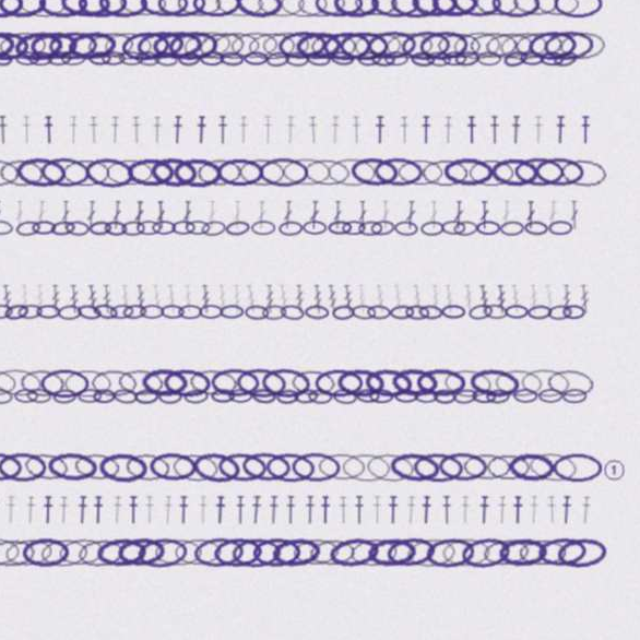chain: (351, 542, 399, 574), (226, 464, 273, 496), (472, 542, 519, 574), (217, 78, 265, 109), (230, 78, 277, 109), (44, 387, 91, 418), (534, 464, 581, 495), (404, 542, 451, 573), (175, 78, 221, 109), (161, 79, 208, 109), (507, 79, 554, 109), (456, 388, 503, 418), (480, 388, 527, 418), (385, 465, 432, 495), (407, 465, 454, 495), (54, 543, 101, 573), (176, 543, 223, 573), (422, 543, 469, 573), (560, 543, 607, 573), (71, 464, 116, 495), (63, 79, 109, 109), (112, 79, 158, 109), (128, 195, 174, 225), (562, 195, 608, 225), (384, 388, 430, 418), (207, 465, 253, 495), (120, 543, 166, 573), (299, 543, 345, 573), (440, 543, 486, 573), (491, 543, 537, 573), (204, 79, 251, 108), (434, 79, 481, 108), (548, 79, 595, 108), (65, 195, 112, 224), (370, 543, 417, 572), (465, 40, 511, 69), (19, 79, 65, 108), (129, 79, 175, 108), (190, 79, 236, 108), (261, 79, 307, 108), (305, 79, 351, 108), (387, 79, 433, 108), (418, 79, 464, 108), (465, 79, 511, 108), (521, 79, 567, 108), (88, 195, 134, 224), (371, 195, 417, 224), (157, 388, 203, 417), (223, 388, 269, 417), (267, 388, 313, 417), (527, 388, 573, 417), (550, 388, 596, 417), (26, 465, 72, 494), (94, 465, 140, 494), (117, 465, 163, 494), (103, 543, 149, 572), (228, 543, 274, 572), (246, 543, 292, 572), (159, 40, 204, 69), (266, 40, 311, 69), (519, 40, 564, 69), (538, 40, 583, 69), (49, 79, 94, 108), (534, 79, 579, 108), (562, 79, 607, 108), (188, 195, 233, 224), (290, 388, 335, 417), (164, 465, 209, 494), (272, 465, 317, 494), (158, 543, 203, 572), (543, 543, 588, 572), (106, 41, 152, 69), (247, 41, 293, 69), (322, 41, 368, 69), (408, 41, 454, 69), (95, 80, 141, 108), (374, 80, 420, 108), (494, 80, 540, 108), (250, 466, 296, 494), (294, 466, 340, 494), (363, 466, 409, 494), (429, 466, 475, 494), (139, 544, 185, 572), (263, 544, 309, 572), (68, 388, 112, 417), (409, 388, 453, 417), (67, 41, 112, 69), (78, 80, 123, 108), (277, 80, 322, 108), (346, 80, 391, 108), (403, 80, 448, 108), (209, 196, 254, 224), (328, 196, 373, 224), (500, 196, 545, 224), (200, 389, 245, 417), (359, 389, 404, 417), (503, 389, 548, 417), (141, 466, 186, 494), (39, 544, 84, 572), (87, 544, 132, 572), (333, 544, 378, 572), (387, 544, 432, 572), (507, 544, 552, 572), (390, 41, 436, 68), (393, 196, 439, 223), (341, 466, 387, 493), (452, 466, 498, 493), (455, 544, 501, 571), (427, 41, 471, 69), (484, 41, 528, 69), (321, 80, 365, 108), (49, 196, 93, 224), (316, 389, 360, 417), (516, 466, 560, 494), (86, 41, 131, 68), (122, 41, 167, 68), (141, 41, 186, 68), (286, 41, 331, 68), (244, 80, 289, 107), (290, 80, 335, 107), (480, 80, 525, 107), (288, 196, 333, 223), (309, 196, 354, 223), (350, 196, 395, 223), (457, 196, 502, 223), (522, 196, 567, 223), (541, 196, 586, 223), (244, 389, 289, 416), (432, 389, 477, 416), (49, 466, 94, 493), (187, 466, 232, 493), (318, 466, 363, 493), (474, 466, 519, 493), (318, 544, 363, 571), (49, 41, 93, 68), (179, 41, 223, 68), (501, 41, 545, 68), (230, 196, 274, 223), (269, 196, 313, 223), (133, 389, 177, 416), (180, 389, 224, 416), (25, 544, 69, 571), (71, 544, 115, 571), (210, 544, 254, 571), (282, 544, 326, 571), (227, 42, 272, 68), (558, 42, 603, 68), (146, 81, 191, 107), (107, 197, 152, 223), (88, 390, 133, 416), (109, 390, 154, 416), (557, 467, 602, 493), (192, 545, 237, 571), (525, 545, 570, 571), (212, 41, 255, 68), (356, 41, 399, 68), (195, 42, 239, 68), (307, 42, 351, 68), (339, 42, 383, 68), (34, 81, 78, 107), (334, 81, 378, 107), (362, 81, 406, 107), (147, 197, 191, 223), (167, 197, 211, 223), (249, 197, 293, 223), (414, 197, 458, 223), (436, 197, 480, 223), (479, 197, 523, 223), (22, 390, 66, 416), (339, 390, 383, 416), (30, 42, 73, 68), (374, 42, 417, 68), (446, 42, 489, 68), (450, 81, 493, 107), (27, 197, 70, 223), (495, 467, 538, 493), (511, 96, 535, 115), (557, 97, 581, 115), (54, 329, 78, 346), (136, 329, 160, 346), (479, 329, 503, 346), (191, 98, 214, 114), (294, 98, 317, 114), (65, 253, 88, 269), (97, 253, 120, 269), (235, 253, 258, 269), (257, 253, 280, 269), (121, 330, 144, 346), (307, 330, 330, 346), (154, 407, 177, 423), (355, 407, 378, 423), (466, 407, 489, 423), (41, 98, 63, 114), (94, 98, 117, 113), (175, 98, 198, 113), (331, 98, 354, 113), (353, 98, 376, 113), (378, 98, 401, 113), (467, 98, 490, 113), (40, 253, 63, 268), (390, 253, 413, 268), (40, 330, 63, 345), (67, 330, 90, 345), (151, 330, 174, 345), (163, 330, 186, 345), (493, 330, 516, 345), (75, 407, 98, 422), (281, 407, 304, 422), (320, 407, 343, 422), (390, 99, 413, 113), (441, 99, 464, 113), (466, 254, 489, 268), (434, 331, 457, 345), (552, 331, 575, 345), (40, 408, 63, 422), (99, 408, 122, 422), (219, 408, 242, 422), (252, 99, 274, 113), (312, 99, 334, 113), (427, 99, 449, 113), (111, 254, 133, 268), (132, 254, 154, 268), (146, 254, 168, 268), (162, 254, 184, 268), (306, 254, 328, 268), (379, 254, 401, 268), (412, 254, 434, 268), (436, 254, 458, 268), (509, 254, 531, 268), (531, 254, 553, 268), (104, 331, 126, 345), (275, 331, 297, 345), (291, 331, 313, 345), (330, 331, 352, 345), (373, 331, 395, 345), (387, 331, 409, 345), (408, 331, 430, 345), (422, 331, 444, 345), (534, 331, 556, 345), (174, 408, 196, 422), (196, 408, 218, 422), (333, 408, 355, 422), (447, 408, 469, 422), (496, 408, 518, 422), (214, 99, 235, 113), (355, 331, 376, 345), (304, 408, 325, 422), (65, 99, 87, 112), (77, 99, 99, 112), (107, 99, 129, 112), (144, 99, 166, 112), (160, 99, 182, 112), (234, 99, 256, 112), (274, 99, 296, 112), (403, 99, 425, 112), (456, 99, 478, 112), (488, 99, 510, 112), (527, 99, 549, 112), (545, 99, 567, 112), (80, 254, 102, 267), (176, 254, 198, 267), (190, 254, 212, 267), (208, 254, 230, 267), (221, 254, 243, 267), (281, 254, 303, 267), (328, 254, 350, 267), (351, 254, 373, 267), (364, 254, 386, 267), (455, 254, 477, 267), (487, 254, 509, 267), (553, 254, 575, 267), (84, 331, 106, 344), (179, 331, 201, 344), (198, 331, 220, 344), (214, 331, 236, 344), (233, 331, 255, 344), (252, 331, 274, 344), (455, 331, 477, 344), (513, 331, 535, 344), (64, 408, 86, 421), (122, 408, 144, 421), (244, 408, 266, 421), (260, 408, 282, 421), (377, 408, 399, 421), (389, 408, 411, 421), (412, 408, 434, 421), (430, 408, 452, 421), (483, 408, 505, 421), (521, 408, 543, 421), (544, 408, 566, 421), (566, 408, 588, 421), (132, 99, 153, 112), (566, 331, 587, 344), (136, 408, 157, 421)
double: (83, 236, 94, 262), (153, 236, 163, 262), (240, 236, 250, 262), (334, 236, 344, 262), (422, 236, 432, 262), (466, 236, 476, 262), (552, 236, 562, 262), (44, 236, 53, 262), (64, 236, 73, 262), (130, 236, 139, 262), (174, 236, 183, 262), (194, 236, 203, 262), (218, 236, 227, 262), (286, 236, 295, 262), (310, 236, 319, 262), (490, 236, 499, 262), (510, 236, 519, 262), (107, 236, 115, 262), (264, 236, 272, 262), (356, 236, 364, 262), (379, 236, 387, 262), (400, 236, 408, 262), (444, 236, 452, 262), (533, 236, 541, 262), (573, 236, 581, 262)
half_double: (48, 158, 59, 184), (208, 158, 219, 184), (230, 158, 241, 184), (332, 158, 343, 184), (518, 158, 529, 184), (39, 506, 50, 532), (121, 506, 132, 532), (153, 506, 164, 532), (199, 506, 210, 532), (247, 506, 258, 532), (280, 506, 291, 532), (296, 506, 307, 532), (422, 506, 433, 532), (436, 506, 447, 532), (489, 506, 500, 532), (505, 506, 516, 532), (534, 506, 545, 532), (564, 506, 575, 532), (582, 506, 593, 532), (70, 158, 80, 184), (113, 158, 123, 184), (132, 158, 142, 184), (151, 158, 161, 184), (171, 158, 181, 184), (190, 158, 200, 184), (250, 158, 260, 184), (269, 158, 279, 184), (291, 158, 301, 184), (312, 158, 322, 184), (353, 158, 363, 184), (372, 158, 382, 184), (394, 158, 404, 184), (416, 158, 426, 184), (436, 158, 446, 184), (456, 158, 466, 184), (478, 158, 488, 184), (499, 158, 509, 184), (539, 158, 549, 184), (559, 158, 569, 184), (582, 158, 592, 184), (56, 506, 66, 532), (74, 506, 84, 532), (90, 506, 100, 532), (104, 506, 114, 532), (136, 506, 146, 532), (168, 506, 178, 532), (183, 506, 193, 532), (214, 506, 224, 532), (232, 506, 242, 532), (266, 506, 276, 532), (312, 506, 322, 532), (330, 506, 340, 532), (344, 506, 354, 532), (360, 506, 370, 532), (375, 506, 385, 532), (391, 506, 401, 532), (406, 506, 416, 532), (455, 506, 465, 532), (472, 506, 482, 532), (520, 506, 530, 532), (551, 506, 561, 532), (91, 158, 100, 184)
noise: (602, 471, 624, 493), (8, 552, 33, 563), (0, 474, 11, 486)
treble: (305, 312, 317, 339), (130, 313, 142, 339), (189, 313, 201, 339), (275, 313, 287, 339), (364, 313, 376, 339), (52, 313, 63, 339), (350, 313, 361, 339), (394, 313, 405, 339), (410, 313, 421, 339), (457, 313, 468, 339), (489, 313, 500, 339), (549, 313, 560, 339), (581, 313, 592, 339), (83, 313, 93, 339), (114, 313, 124, 339), (144, 313, 154, 339), (161, 313, 171, 339), (175, 313, 185, 339), (203, 313, 213, 339), (250, 313, 260, 339), (263, 313, 273, 339), (337, 313, 347, 339), (428, 313, 438, 339), (445, 313, 455, 339), (475, 313, 485, 339), (505, 313, 515, 339), (518, 313, 528, 339), (39, 313, 48, 339), (69, 313, 78, 339), (219, 313, 228, 339), (235, 313, 244, 339), (321, 313, 330, 339), (378, 313, 387, 339), (535, 313, 544, 339), (98, 313, 106, 339), (294, 313, 302, 339), (566, 313, 574, 339)
